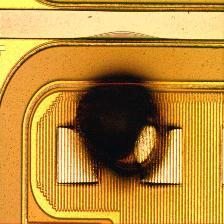PARTICLE: (56, 62, 188, 194)
